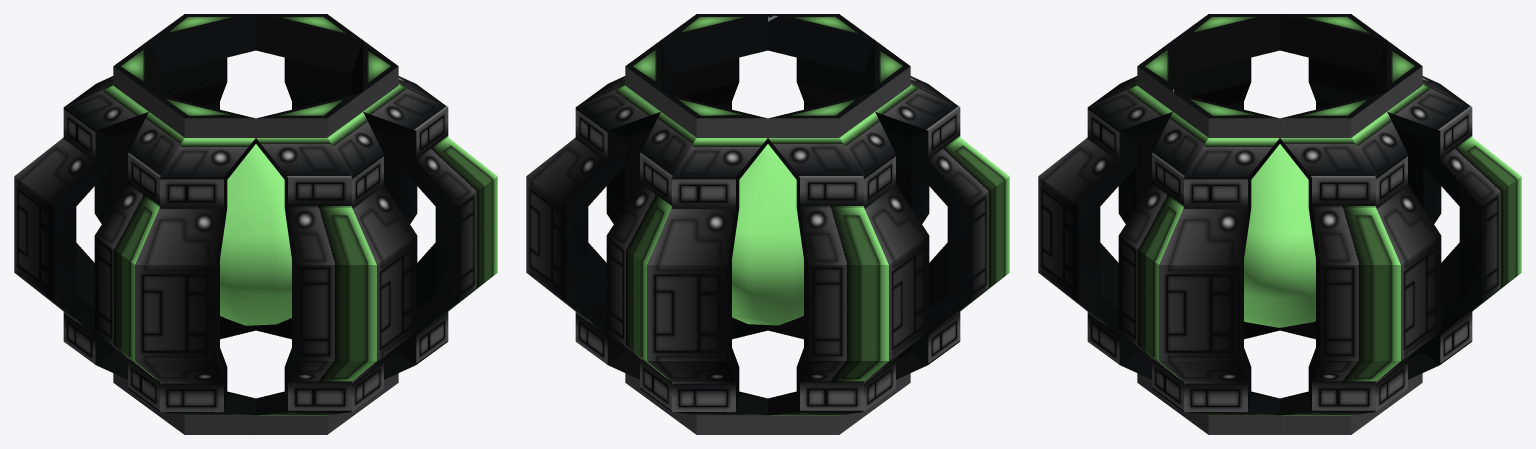
File: droid_ball.fbx
3 views of the same model, side by side, from view 1: azimuth 30°, elevation 25°; view 2: azimuth 150°, elevation 25°; view 3: azimuth 270°, elevation 25° (orthographic).
Parts seen in each view (by area): view 1: EnergyPack02; view 2: EnergyPack02; view 3: EnergyPack02.
Part boxes in pixels (<box>): EnergyPack02: <box>14,14,497,434</box>; EnergyPack02: <box>526,14,1009,434</box>; EnergyPack02: <box>1038,14,1521,434</box>.
Size of the model in its own units: 91.74 by 76.51 by 106.
